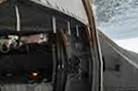rust: (83, 1, 99, 23)
